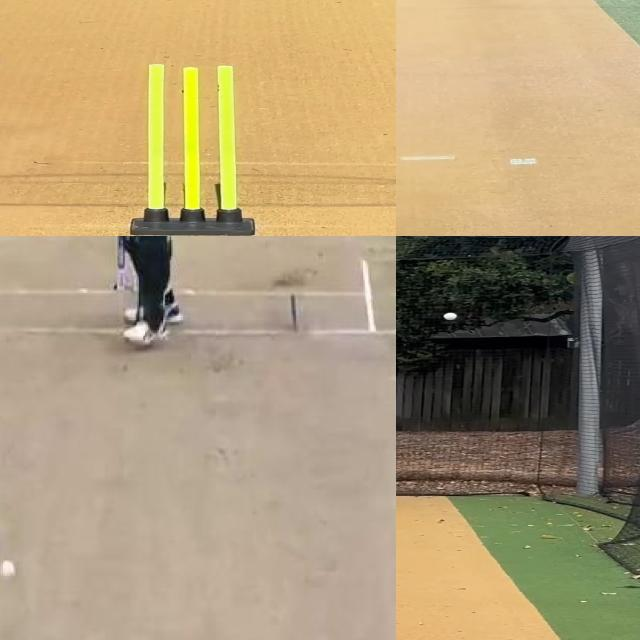Cricket ball: (0, 557, 18, 581), (443, 312, 458, 322)
